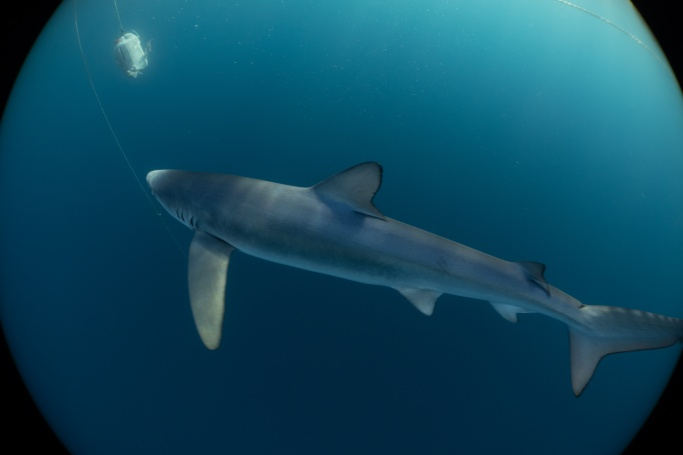Azul: (134, 140, 683, 416)
